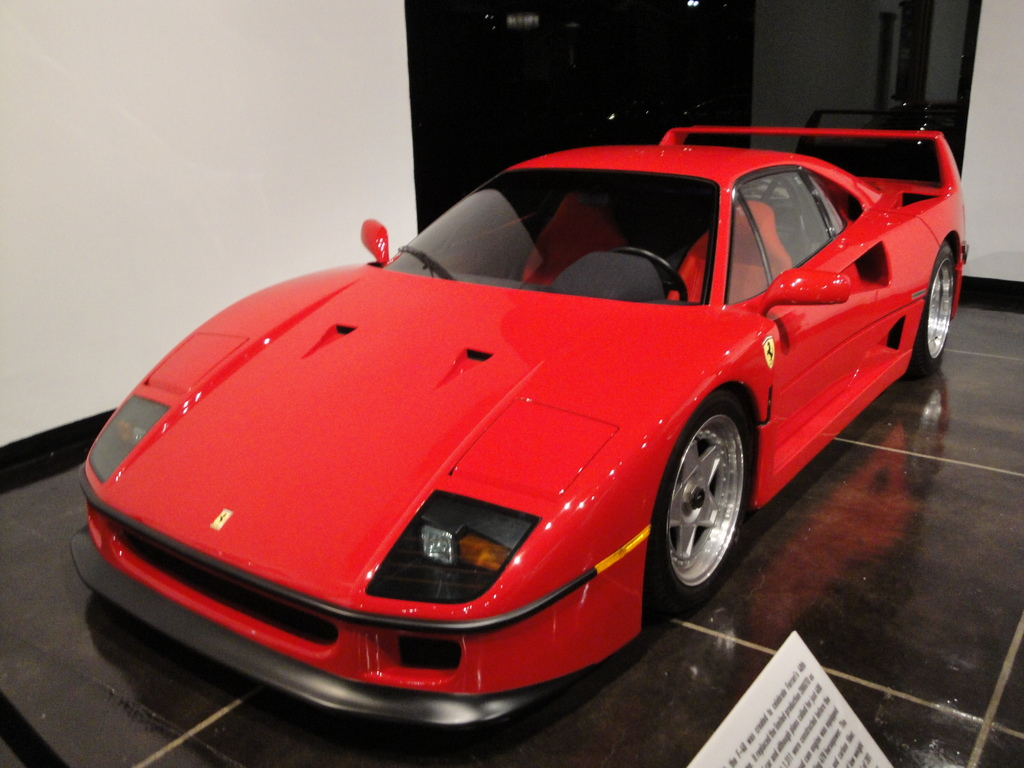Car: (77, 147, 986, 725)
